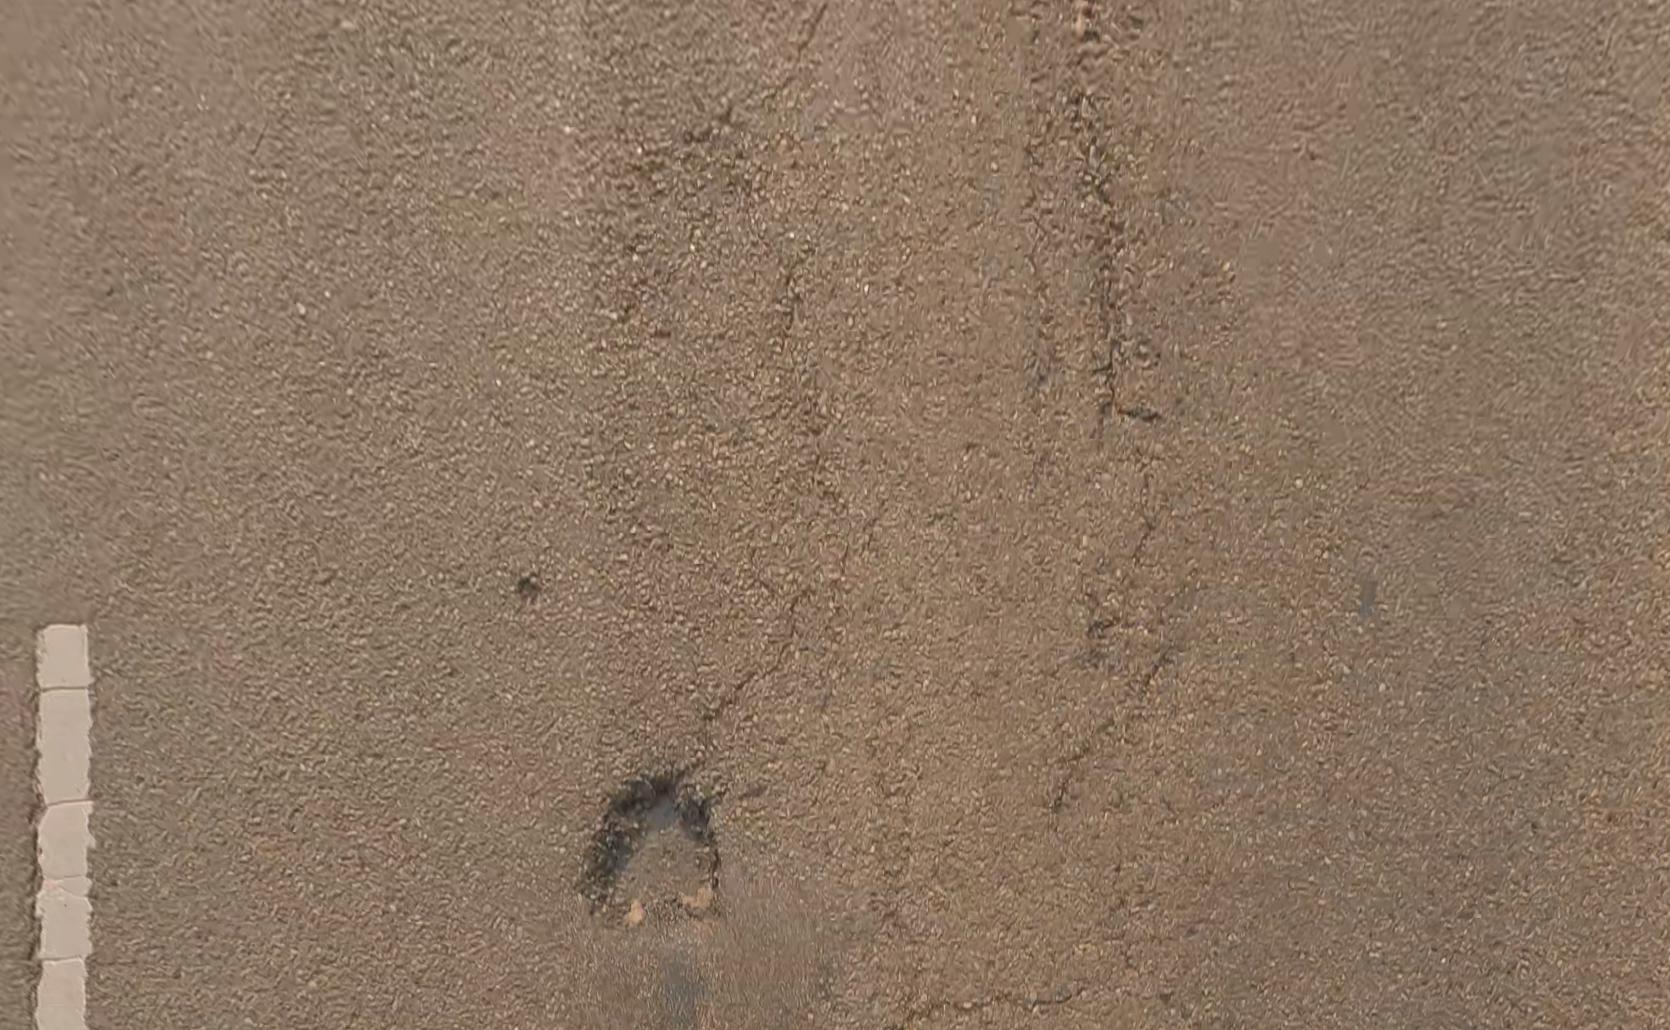pothole: (575, 771, 740, 926)
